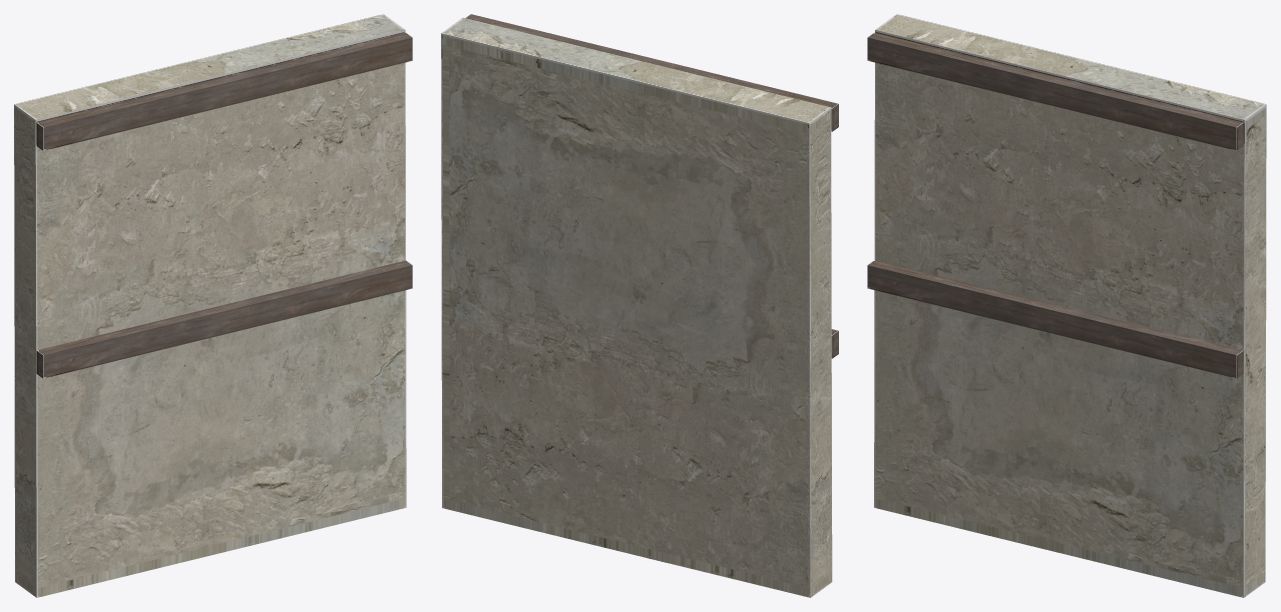
File: pared_1_d.fbx
3 views of the same model, side by side, from view 1: azimuth 30°, elevation 25°; view 2: azimuth 150°, elevation 25°; view 3: azimuth 330°, elevation 25° (orthographic).
Parts seen in each view (by area): view 1: pared_1_d; view 2: pared_1_d; view 3: pared_1_d.
Part boxes in pixels (left/top/right/bottom): pared_1_d: left=14, top=14, right=412, bottom=597; pared_1_d: left=441, top=14, right=838, bottom=597; pared_1_d: left=867, top=14, right=1266, bottom=597.
Size of the model in its own units: 401 by 494 by 55.06.
